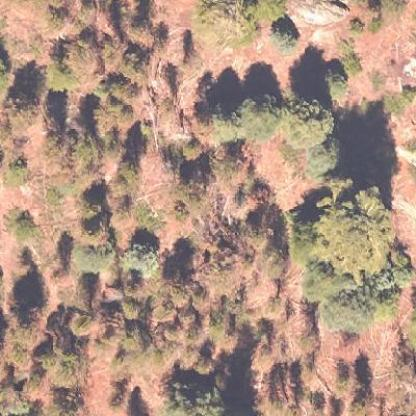tree-top: (306, 180, 404, 278), (316, 282, 393, 336), (181, 0, 260, 50), (161, 364, 231, 415), (274, 91, 332, 152), (227, 90, 284, 146), (66, 231, 120, 275), (38, 50, 84, 96), (118, 236, 166, 280), (252, 239, 295, 282), (0, 88, 38, 127), (113, 43, 154, 79), (263, 20, 301, 57), (108, 149, 144, 187), (4, 207, 39, 242), (320, 65, 349, 102), (0, 151, 29, 187), (379, 89, 410, 116)
